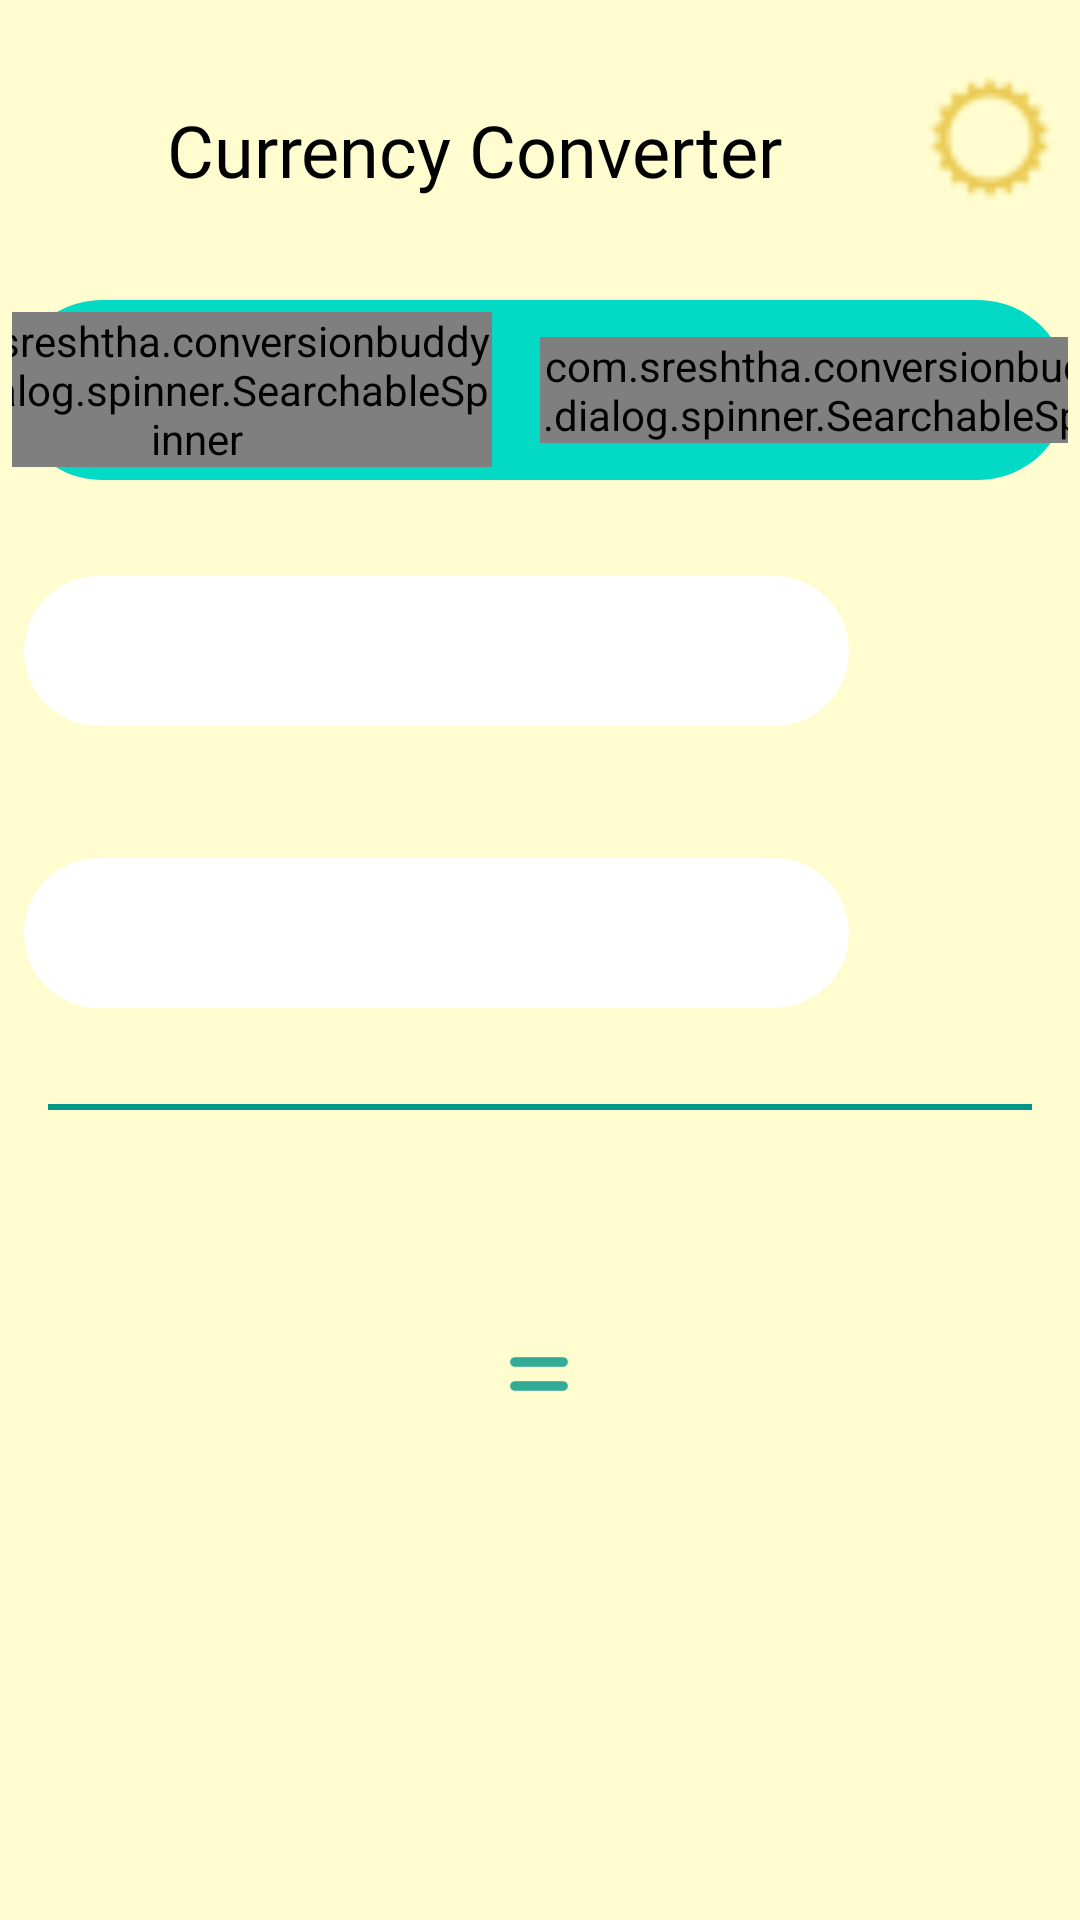

Icon click points for this 1080px x 1920px phone screenshot, format (x,y):
equals: (539,1374)
theme change: (990,138)
